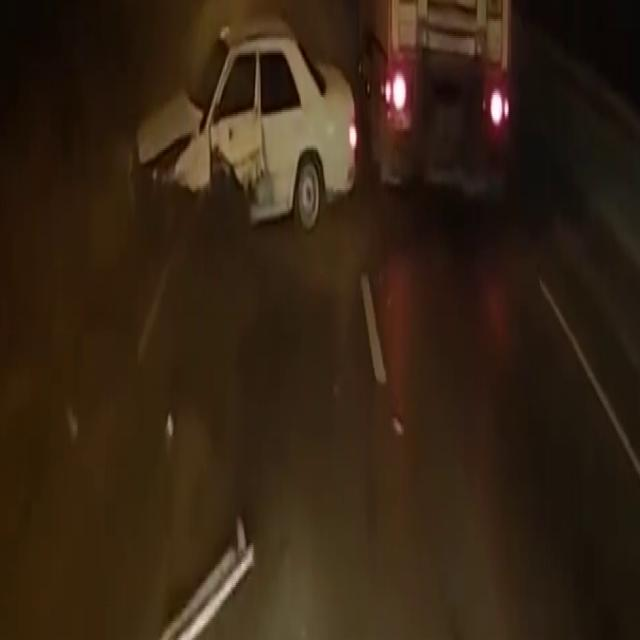accident: (123, 45, 364, 278)
